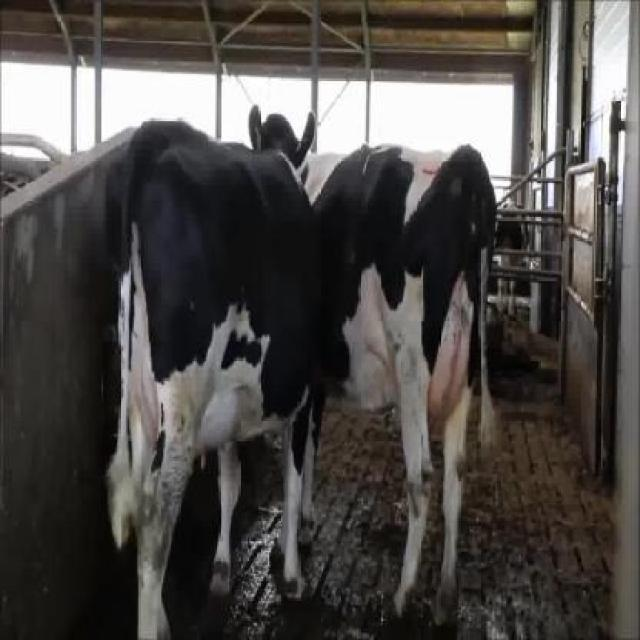Cow: (265, 137, 497, 637), (102, 104, 318, 638)
